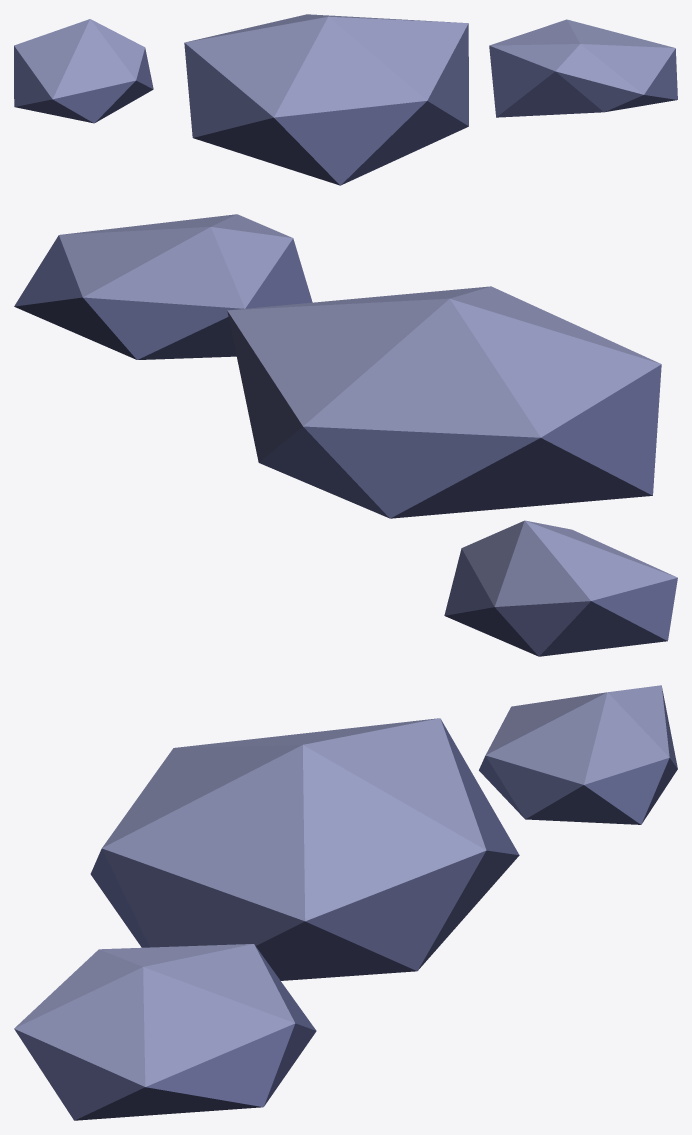
Rendered from cel_stones.glb.
3 views of the same model, one above another, from view 1: azimuth 30°, elevation 25°; view 2: azimuth 150°, elevation 25°; view 3: azimuth 270°, elevation 25° (orthographic). The views are drawn at different scales.
Visible parts, largest first — view 1: stone0, stone1, stone2; view 2: stone0, stone1, stone2; view 3: stone0, stone1, stone2.
Part boxes in pixels (bbox=[...]): stone0: bbox=[184, 14, 468, 185]; stone1: bbox=[489, 19, 677, 117]; stone2: bbox=[14, 19, 153, 123]; stone0: bbox=[227, 286, 661, 518]; stone1: bbox=[14, 214, 312, 359]; stone2: bbox=[444, 520, 677, 656]; stone0: bbox=[90, 718, 519, 980]; stone1: bbox=[14, 944, 316, 1120]; stone2: bbox=[479, 685, 677, 824].
Bounding box in the file's own units: 1.36 × 0.2666 × 0.9335.
